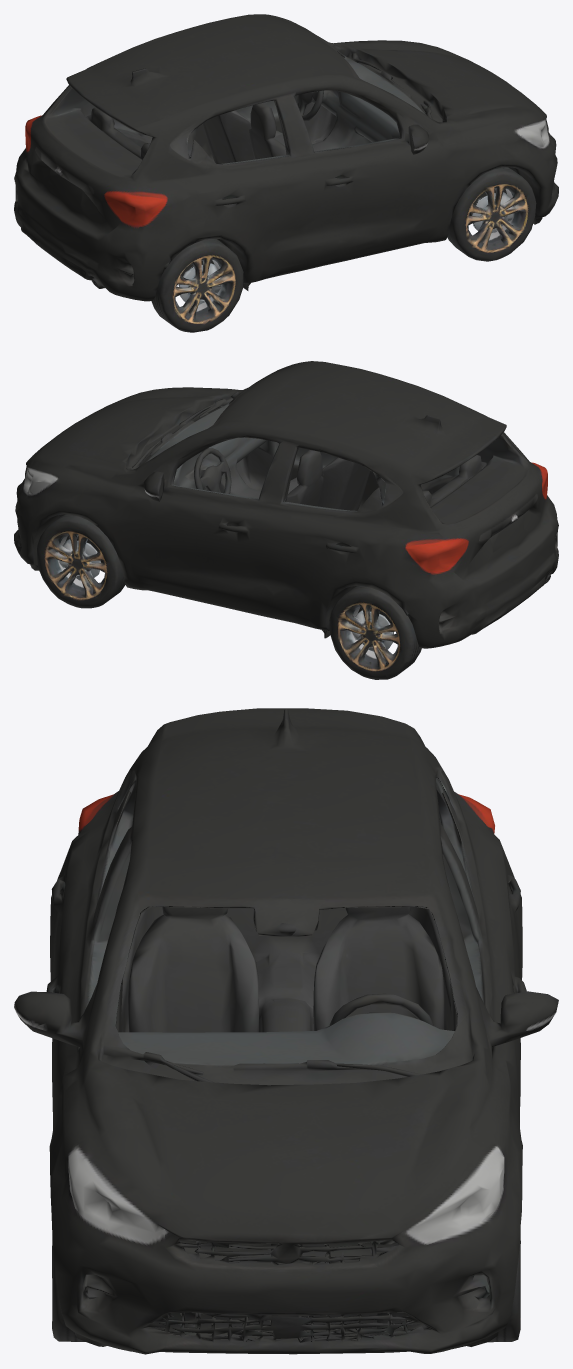
Rendered from hatch.glb.
The picture shows the model from 3 angles, top to bottom: view 1: azimuth 30°, elevation 25°; view 2: azimuth 150°, elevation 25°; view 3: azimuth 270°, elevation 25°; orthographic projection. The views are drawn at different scales.
Parts seen in each view (by area): view 1: tripo_node_99c4acda-5c69-47a1-81ce-858ed1053ae3; view 2: tripo_node_99c4acda-5c69-47a1-81ce-858ed1053ae3; view 3: tripo_node_99c4acda-5c69-47a1-81ce-858ed1053ae3.
Boxes of the visible parts, x1=… form: tripo_node_99c4acda-5c69-47a1-81ce-858ed1053ae3: x1=14, y1=14, x2=558, y2=332; tripo_node_99c4acda-5c69-47a1-81ce-858ed1053ae3: x1=14, y1=361, x2=558, y2=679; tripo_node_99c4acda-5c69-47a1-81ce-858ed1053ae3: x1=14, y1=708, x2=558, y2=1354.
Bounding box in the file's own units: 1 × 0.4312 × 0.5701.
1 material, 1 textured.
